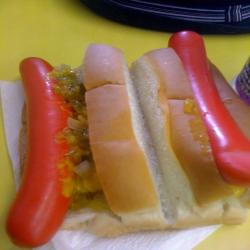hotdog: (8, 34, 250, 234)
